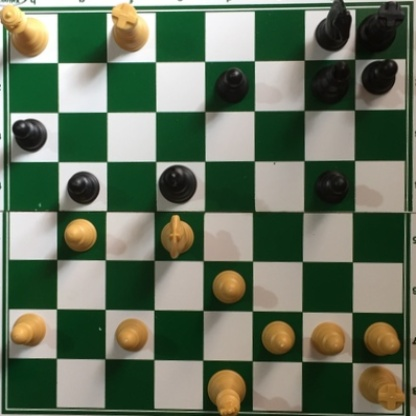black-bishop: (306, 58, 350, 104)
black-king: (157, 162, 199, 207)
black-knight: (312, 1, 355, 54)
black-pawn: (360, 56, 399, 95), (213, 65, 249, 106), (63, 169, 101, 206), (9, 117, 48, 153), (312, 170, 348, 205)
black-rook: (354, 1, 406, 57)
white-king: (202, 366, 246, 416)
white-knight: (157, 212, 196, 262)
white-pawn: (112, 313, 152, 355), (257, 319, 299, 358), (61, 213, 100, 254), (358, 317, 401, 352), (309, 319, 347, 358), (8, 309, 48, 346), (207, 267, 242, 306)
white-queen: (1, 1, 49, 57)
white-rook: (354, 362, 406, 411), (105, 1, 148, 54)
